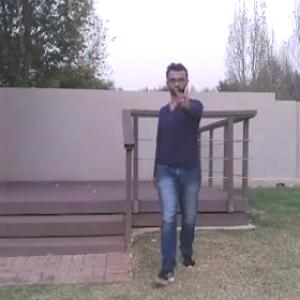takeoff-hand: (168, 76, 199, 114)
